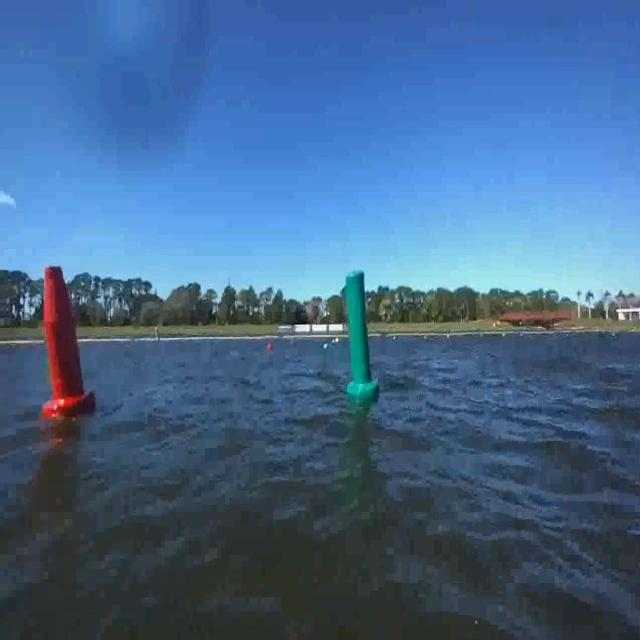green-column-buoy: (342, 270, 378, 402)
red-column-buoy: (41, 264, 97, 421)
